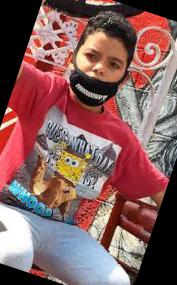mask_weared_incorrect: (62, 38, 132, 105)
